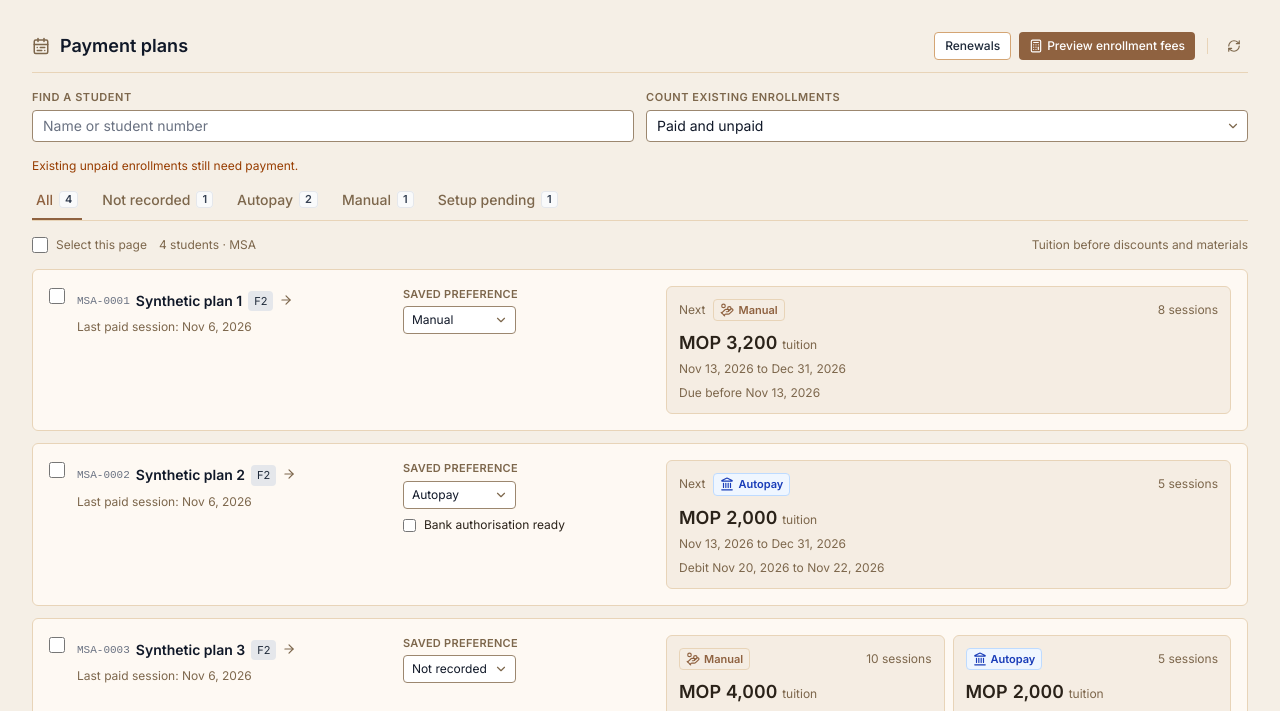
Test case: payment plans on the existing student roster › clears selection when the preference filter changes
The width and height of the screenshot is (1280, 711).
Expected: the text "Synthetic plan 1" is shown, x1=136 y1=291 x2=242 y2=311
Click the checkbox named "Select Synthetic plan 1".
click(57, 296)  # box x1=49 y1=288 x2=65 y2=304
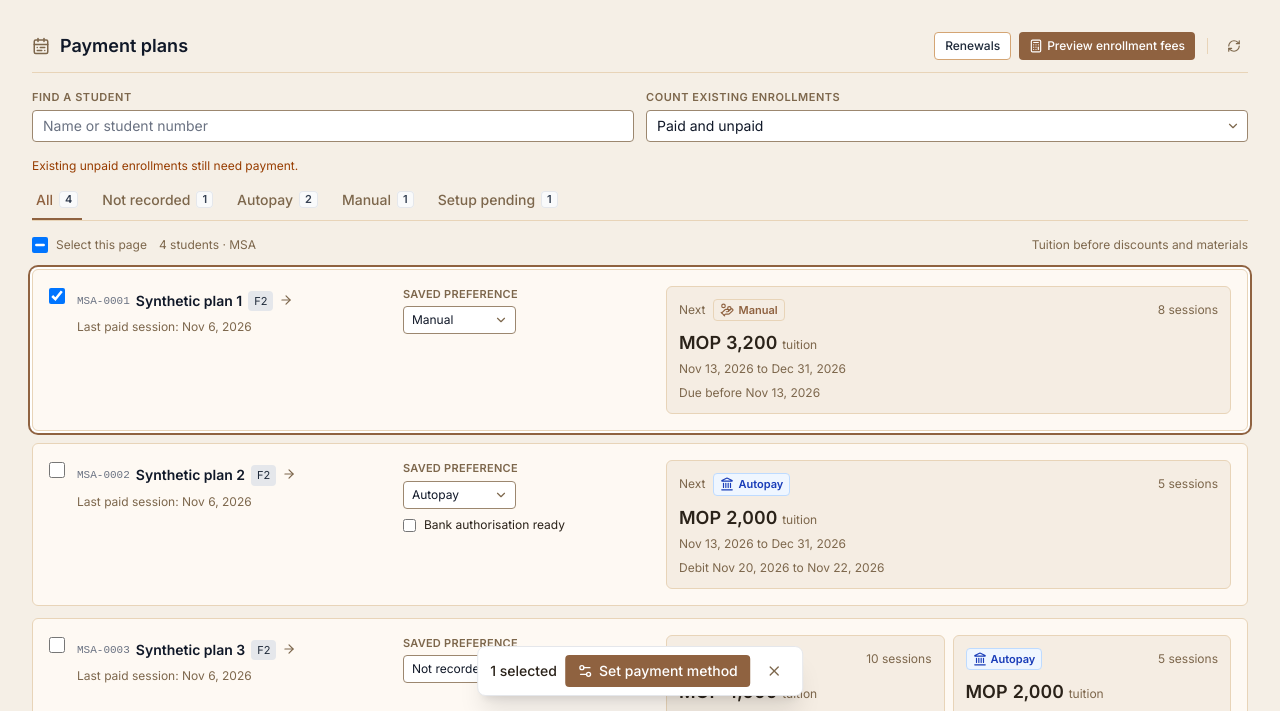
Now the button "Set payment method" is enabled, box x1=565 y1=655 x2=750 y2=687
Click the tab "Autopay 2".
click(278, 204)  # box x1=233 y1=190 x2=322 y2=220
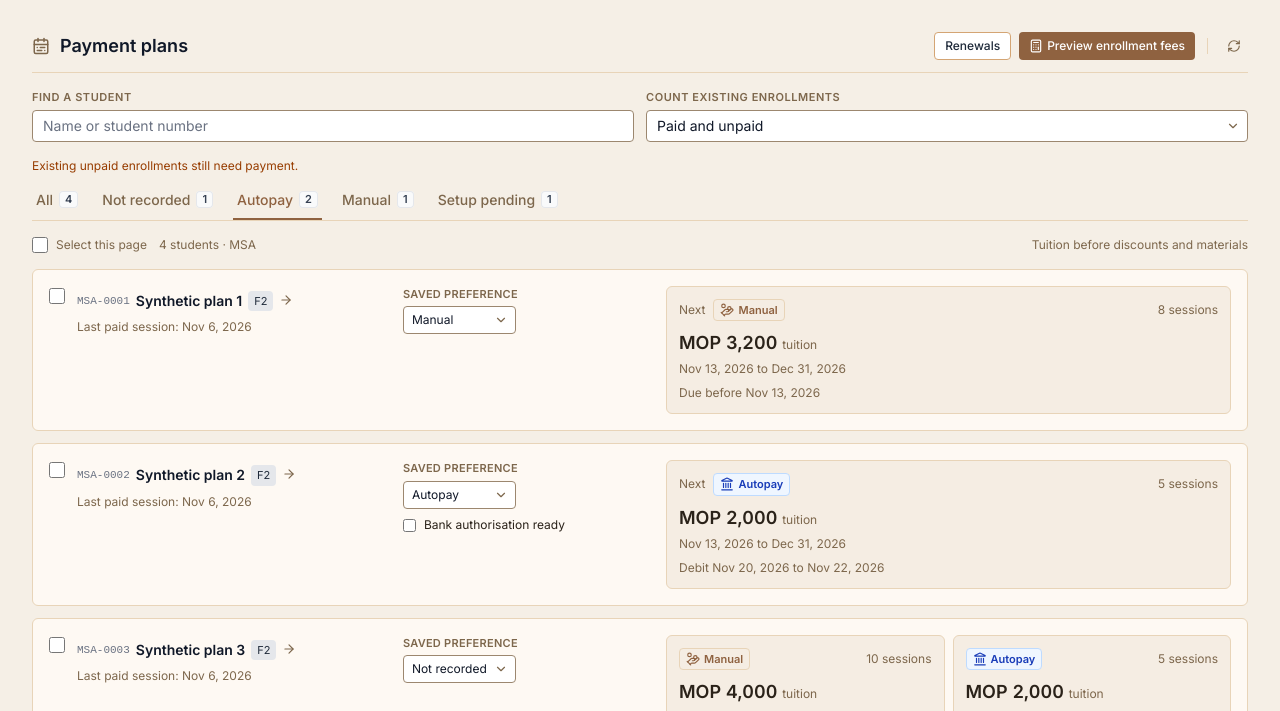
Now the button "Set payment method" is gone
